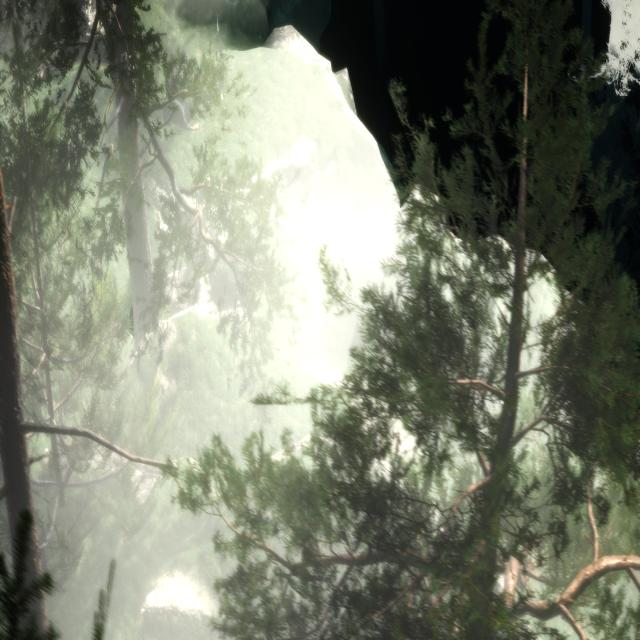Human: (156, 56, 227, 134)
